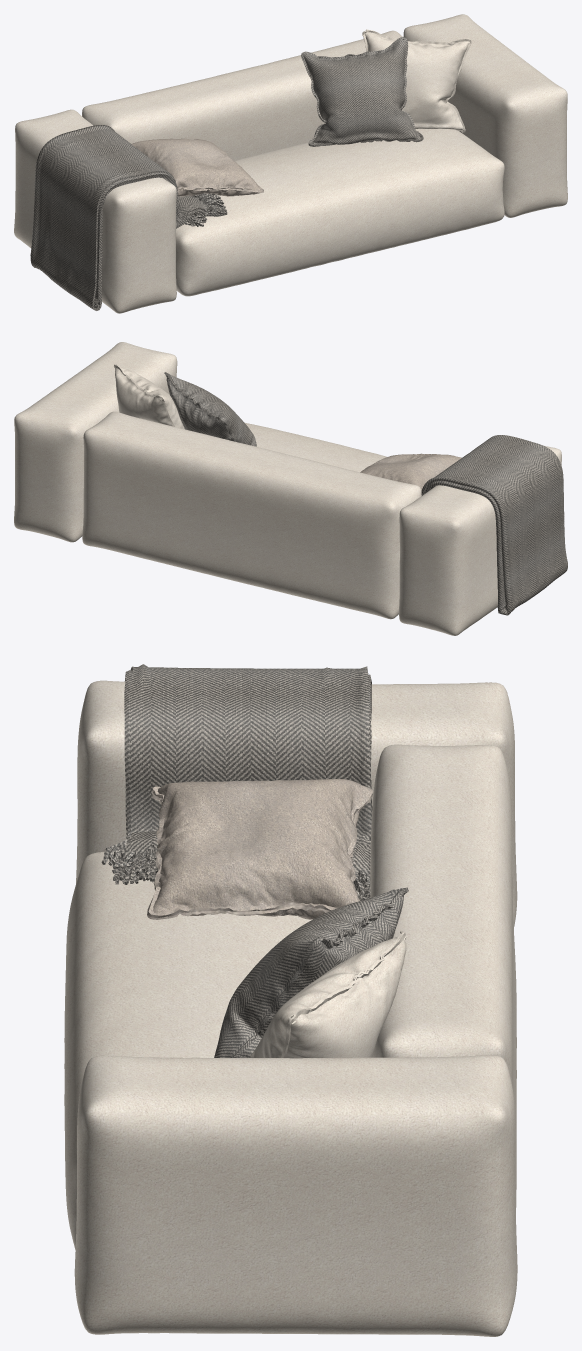
The picture shows the model from 3 angles, top to bottom: view 1: azimuth 30°, elevation 25°; view 2: azimuth 150°, elevation 25°; view 3: azimuth 270°, elevation 25°; orthographic projection. The views are drawn at different scales.
Visible parts, largest first — view 1: BULKY_SHERLING_SOFA_by_LAYERED_008, BULKY_SHERLING_SOFA_by_LAYERED_003, BULKY_SHERLING_SOFA_by_LAYERED_006, BULKY_SHERLING_SOFA_by_LAYERED_005, BULKY_SHERLING_SOFA_by_LAYERED_002, BULKY_SHERLING_SOFA_by_LAYERED_004, BULKY_SHERLING_SOFA_by_LAYERED_007, BULKY_SHERLING_SOFA_by_LAYERED_001; view 2: BULKY_SHERLING_SOFA_by_LAYERED_006, BULKY_SHERLING_SOFA_by_LAYERED_003, BULKY_SHERLING_SOFA_by_LAYERED_005, BULKY_SHERLING_SOFA_by_LAYERED_002, BULKY_SHERLING_SOFA_by_LAYERED_004, BULKY_SHERLING_SOFA_by_LAYERED_008, BULKY_SHERLING_SOFA_by_LAYERED_007, BULKY_SHERLING_SOFA_by_LAYERED_001; view 3: BULKY_SHERLING_SOFA_by_LAYERED_003, BULKY_SHERLING_SOFA_by_LAYERED_006, BULKY_SHERLING_SOFA_by_LAYERED_005, BULKY_SHERLING_SOFA_by_LAYERED_008, BULKY_SHERLING_SOFA_by_LAYERED_001, BULKY_SHERLING_SOFA_by_LAYERED_002, BULKY_SHERLING_SOFA_by_LAYERED_004, BULKY_SHERLING_SOFA_by_LAYERED_007.
Boxes of the visible parts, <box> form: BULKY_SHERLING_SOFA_by_LAYERED_008: <box>176,128,504,296</box>; BULKY_SHERLING_SOFA_by_LAYERED_003: <box>403,14,567,217</box>; BULKY_SHERLING_SOFA_by_LAYERED_006: <box>82,30,402,160</box>; BULKY_SHERLING_SOFA_by_LAYERED_005: <box>30,125,227,310</box>; BULKY_SHERLING_SOFA_by_LAYERED_002: <box>14,109,176,313</box>; BULKY_SHERLING_SOFA_by_LAYERED_004: <box>301,36,423,146</box>; BULKY_SHERLING_SOFA_by_LAYERED_007: <box>362,29,471,132</box>; BULKY_SHERLING_SOFA_by_LAYERED_001: <box>132,138,263,196</box>; BULKY_SHERLING_SOFA_by_LAYERED_006: <box>82,411,421,619</box>; BULKY_SHERLING_SOFA_by_LAYERED_003: <box>14,342,177,542</box>; BULKY_SHERLING_SOFA_by_LAYERED_005: <box>421,435,567,615</box>; BULKY_SHERLING_SOFA_by_LAYERED_002: <box>399,446,561,635</box>; BULKY_SHERLING_SOFA_by_LAYERED_004: <box>164,372,256,446</box>; BULKY_SHERLING_SOFA_by_LAYERED_008: <box>245,423,386,472</box>; BULKY_SHERLING_SOFA_by_LAYERED_007: <box>114,364,184,429</box>; BULKY_SHERLING_SOFA_by_LAYERED_001: <box>360,453,461,490</box>; BULKY_SHERLING_SOFA_by_LAYERED_003: <box>74,1055,517,1336</box>; BULKY_SHERLING_SOFA_by_LAYERED_006: <box>370,744,516,1210</box>; BULKY_SHERLING_SOFA_by_LAYERED_005: <box>101,664,372,900</box>; BULKY_SHERLING_SOFA_by_LAYERED_008: <box>64,852,312,1249</box>; BULKY_SHERLING_SOFA_by_LAYERED_001: <box>147,779,373,919</box>; BULKY_SHERLING_SOFA_by_LAYERED_002: <box>76,680,517,927</box>; BULKY_SHERLING_SOFA_by_LAYERED_004: <box>214,887,408,1057</box>; BULKY_SHERLING_SOFA_by_LAYERED_007: <box>249,931,406,1058</box>.
Size of the model in its own units: 2.58 by 0.789 by 1.08.
3 materials, 3 textured.
